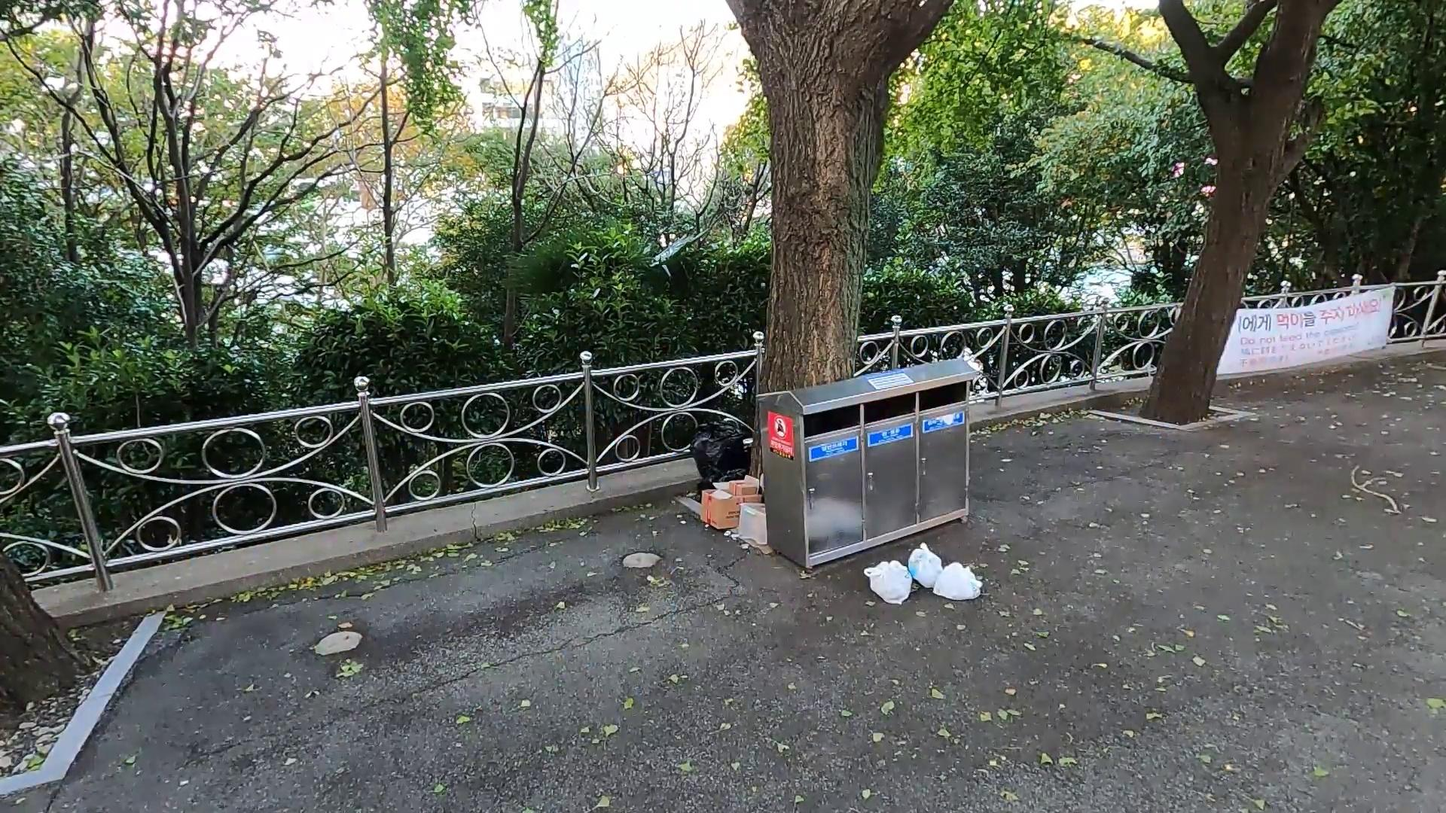trash: (690, 419, 749, 488), (698, 485, 763, 532), (930, 561, 982, 602), (865, 559, 911, 605), (696, 469, 749, 505), (735, 497, 772, 548), (908, 542, 944, 593), (727, 479, 758, 496)
